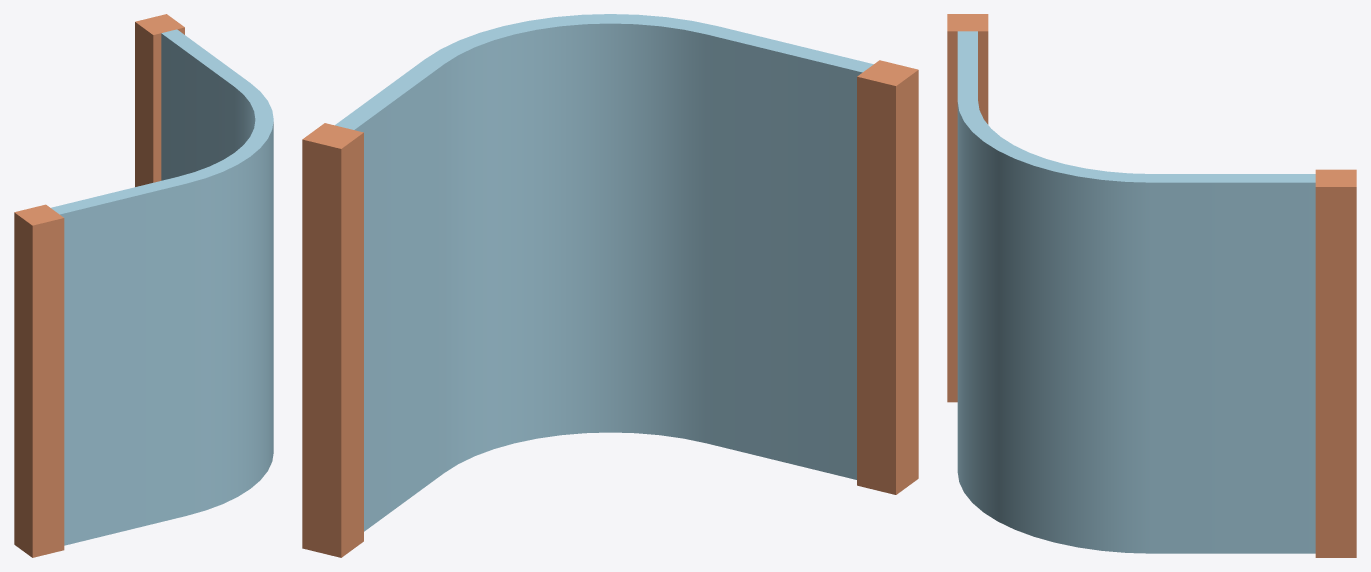
File: wallRounded.obj
The picture shows the model from 3 angles, left to right: view 1: azimuth 30°, elevation 25°; view 2: azimuth 150°, elevation 25°; view 3: azimuth 270°, elevation 25°; orthographic projection. The views are drawn at different scales.
Parts seen in each view (by area): view 1: wallRounded; view 2: wallRounded; view 3: wallRounded.
Boxes of the visible parts, x1,y1,x2,y2 form: wallRounded: [14, 14, 273, 557]; wallRounded: [302, 14, 918, 557]; wallRounded: [947, 14, 1356, 557].
Bounding box in the file's own units: 1 × 1 × 1.
